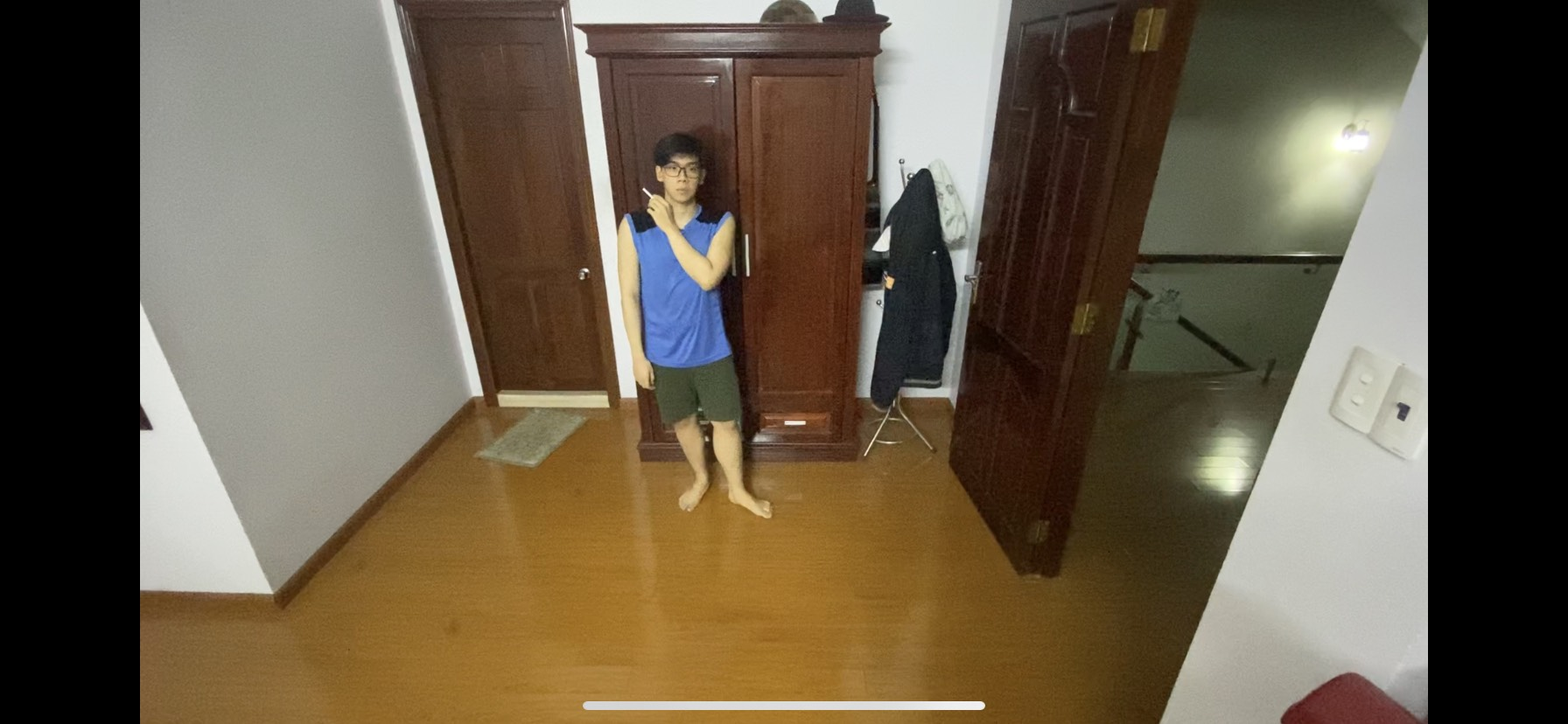cigarette: (638, 184, 652, 200)
person: (610, 128, 795, 533)
